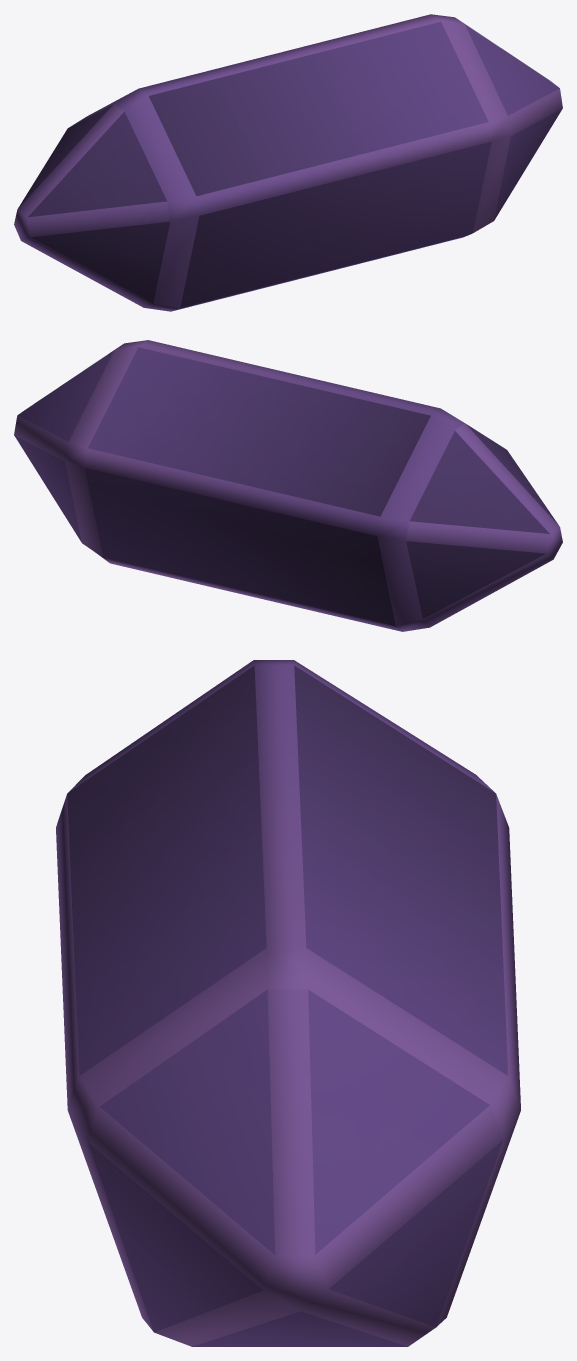
Rendered from christal_amethyst_5.fbx.
The picture shows the model from 3 angles, top to bottom: view 1: azimuth 30°, elevation 25°; view 2: azimuth 150°, elevation 25°; view 3: azimuth 270°, elevation 25°; orthographic projection. The views are drawn at different scales.
Visible parts, largest first — view 1: christal_amethyst_5; view 2: christal_amethyst_5; view 3: christal_amethyst_5.
Boxes of the visible parts, bbox=[...] form: christal_amethyst_5: bbox=[14, 14, 562, 311]; christal_amethyst_5: bbox=[14, 340, 562, 631]; christal_amethyst_5: bbox=[56, 660, 520, 1346].
Bounding box in the file's own units: 64.29 × 22.77 × 24.56.
1 material, 1 textured.
